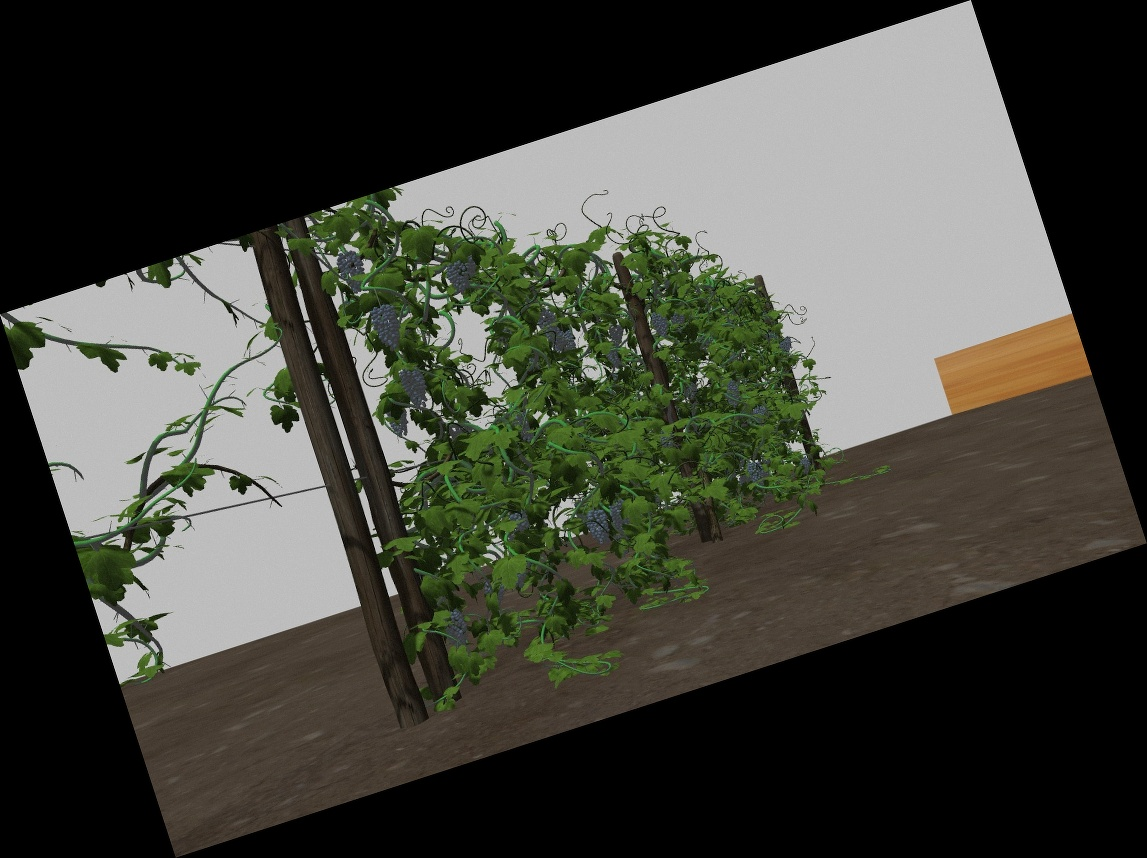grape: (374, 304, 402, 349), (340, 249, 365, 293), (400, 368, 428, 407), (444, 612, 468, 646), (588, 510, 611, 544), (447, 262, 469, 294), (611, 501, 629, 530), (516, 413, 534, 442), (652, 310, 669, 338), (539, 312, 558, 337), (724, 381, 741, 406), (749, 461, 765, 485), (512, 511, 529, 532), (607, 345, 620, 369), (609, 323, 625, 342), (551, 332, 565, 352), (564, 330, 576, 350), (800, 457, 812, 476), (779, 337, 794, 352), (755, 406, 766, 421)
